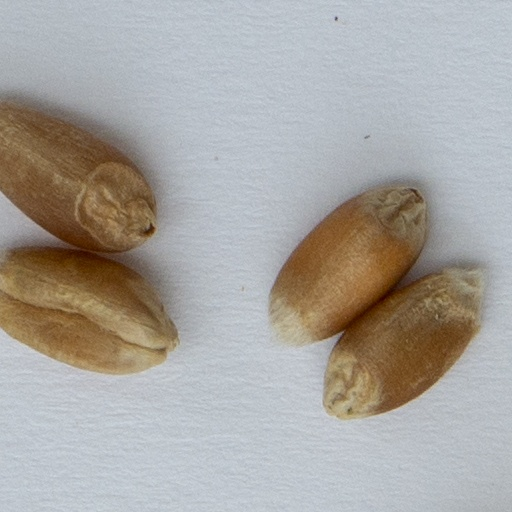Wheat-grain-poly: (264, 180, 430, 346), (324, 257, 490, 419), (0, 98, 156, 252), (0, 244, 179, 375)
